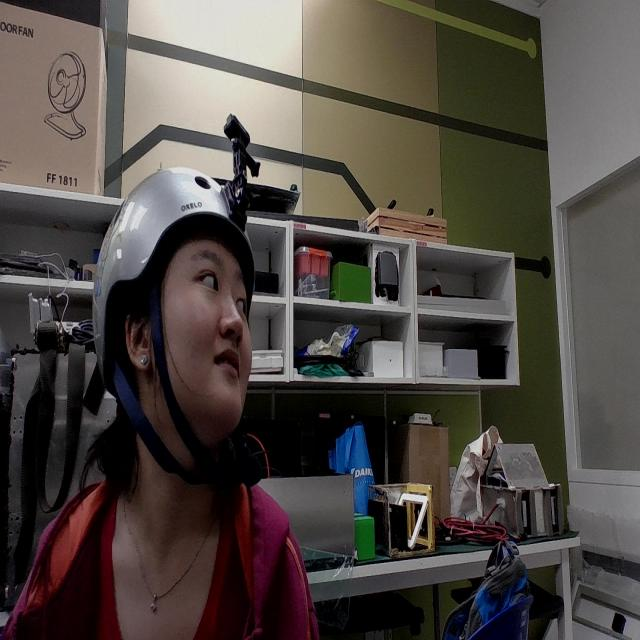With Helmet: (74, 93, 321, 506)
